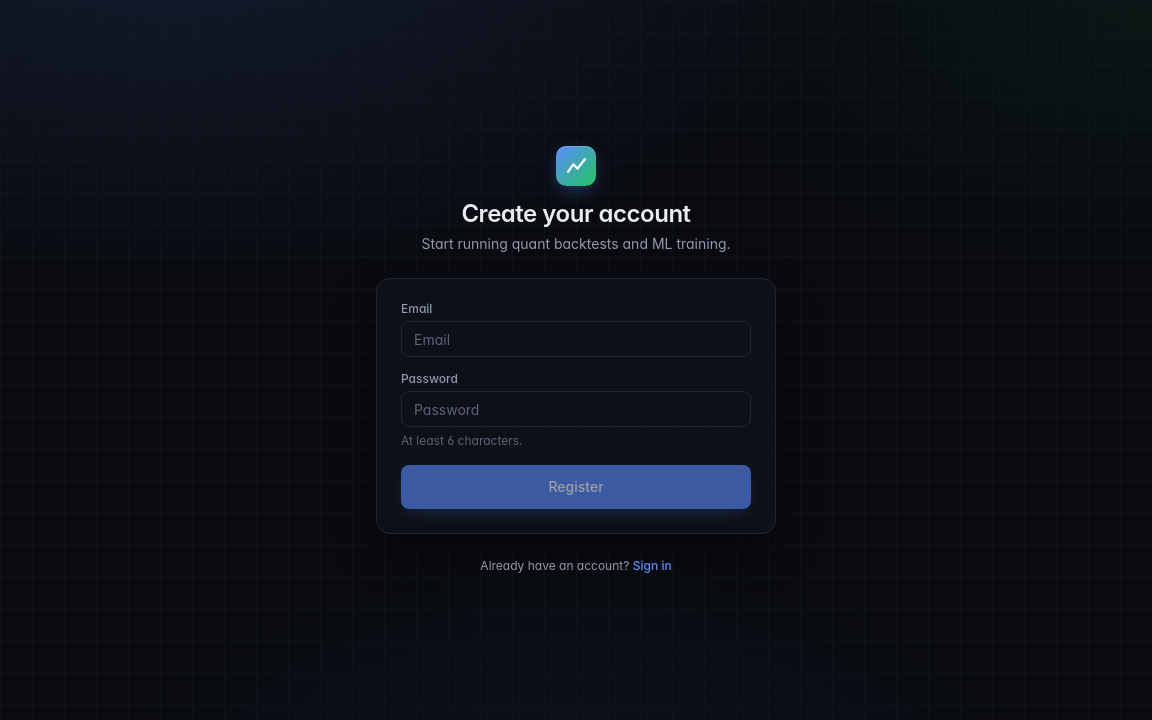
Test: Auth form validation › shows register email/password validation hints
Step 1. Type "x" into the field with placeholder "Email" → (576, 339), box top-left (401, 321), bottom-right (751, 357)
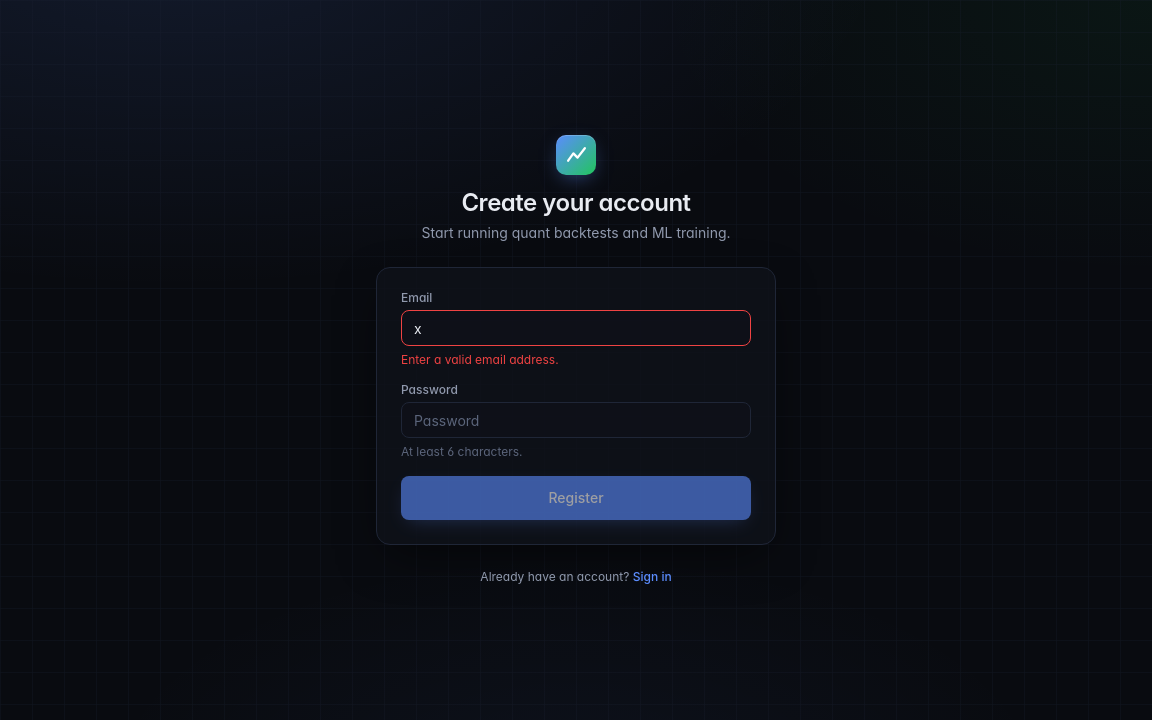
Step 2. Type "123" into the password field with placeholder "Password" → (576, 420), box top-left (401, 402), bottom-right (751, 438)
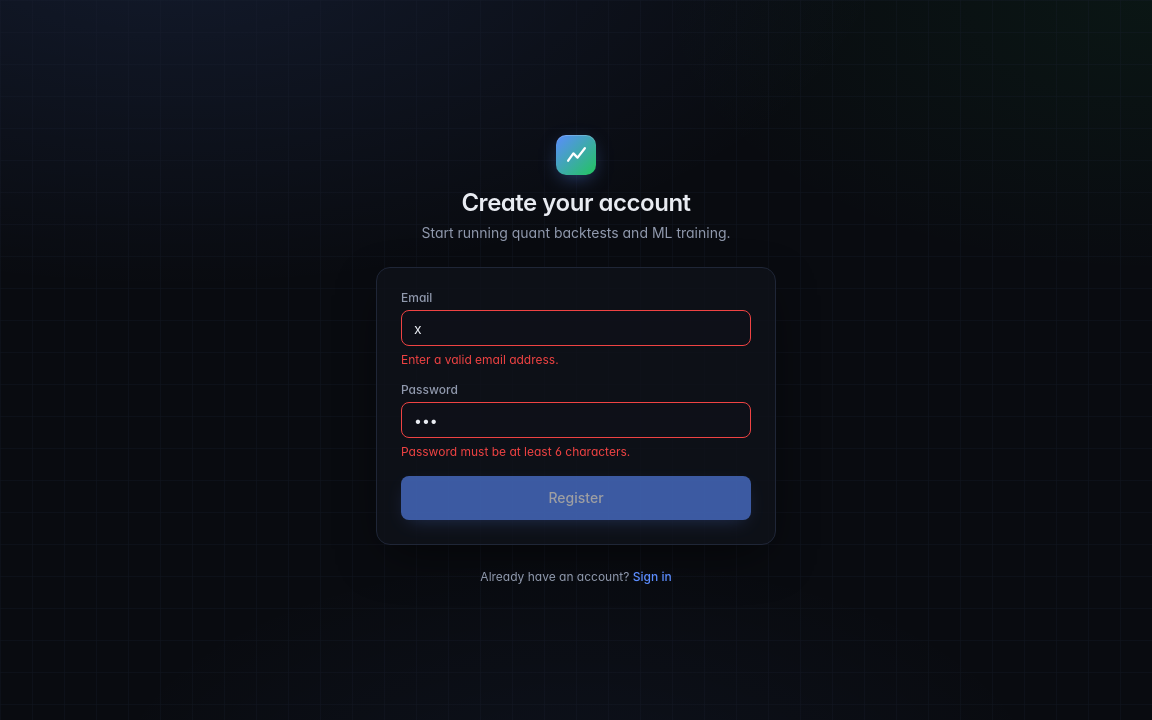
Now the text "Enter a valid email address." is shown, box top-left (401, 352), bottom-right (559, 367)
Now the text "Password must be at least 6 characters." is shown, box top-left (401, 444), bottom-right (630, 459)
